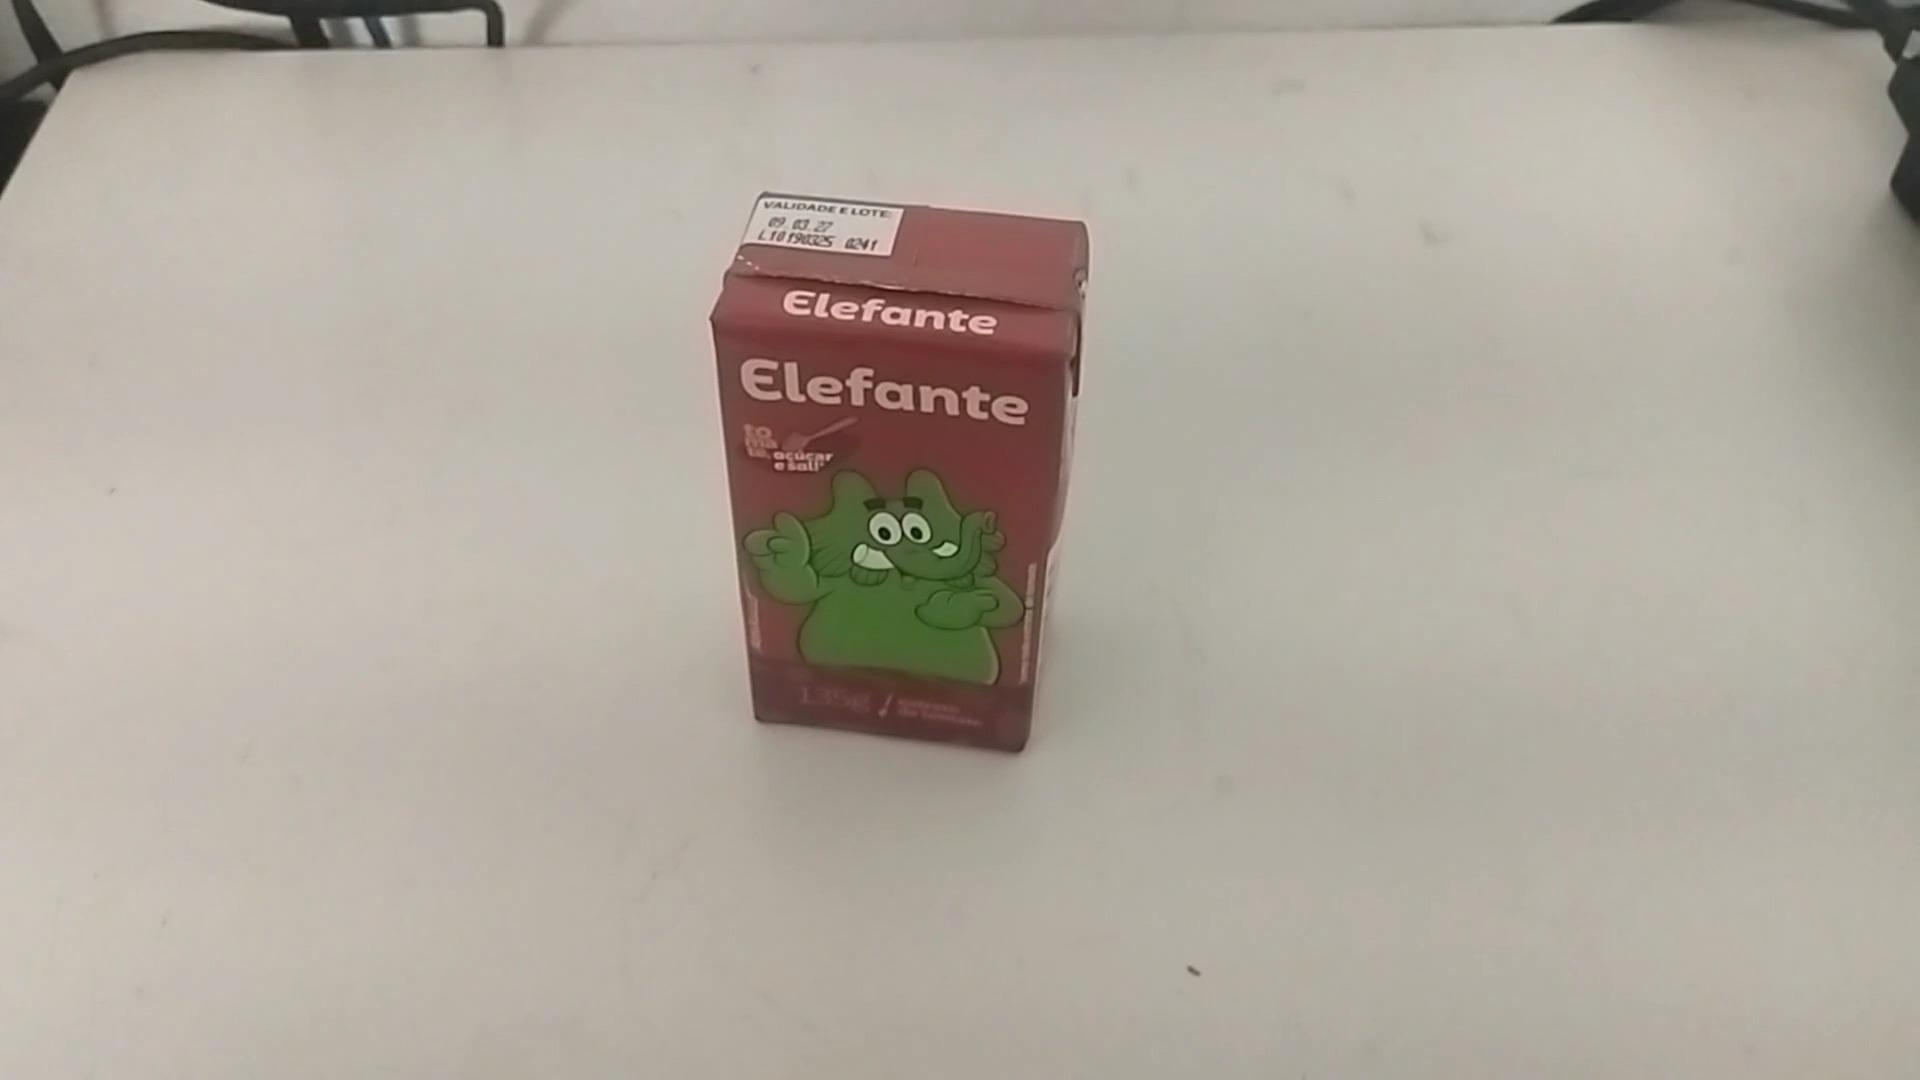tomate: (704, 183, 1108, 761)
